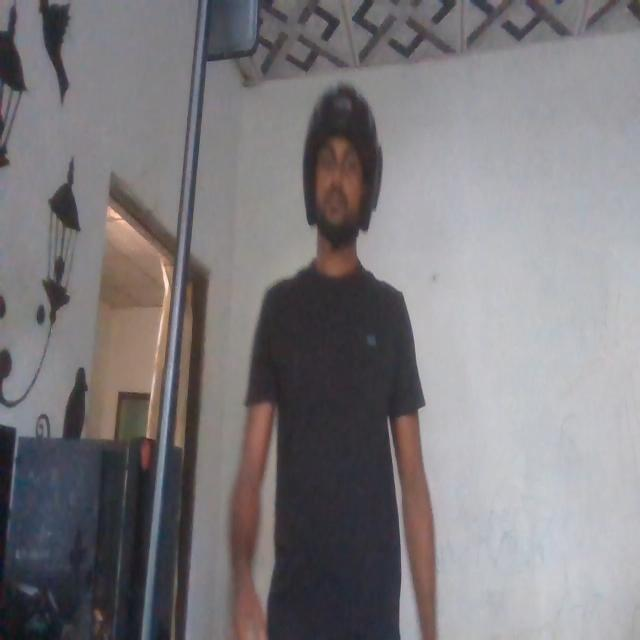Helmet_Wearer: (295, 66, 393, 274)
Person: (231, 58, 428, 640)
